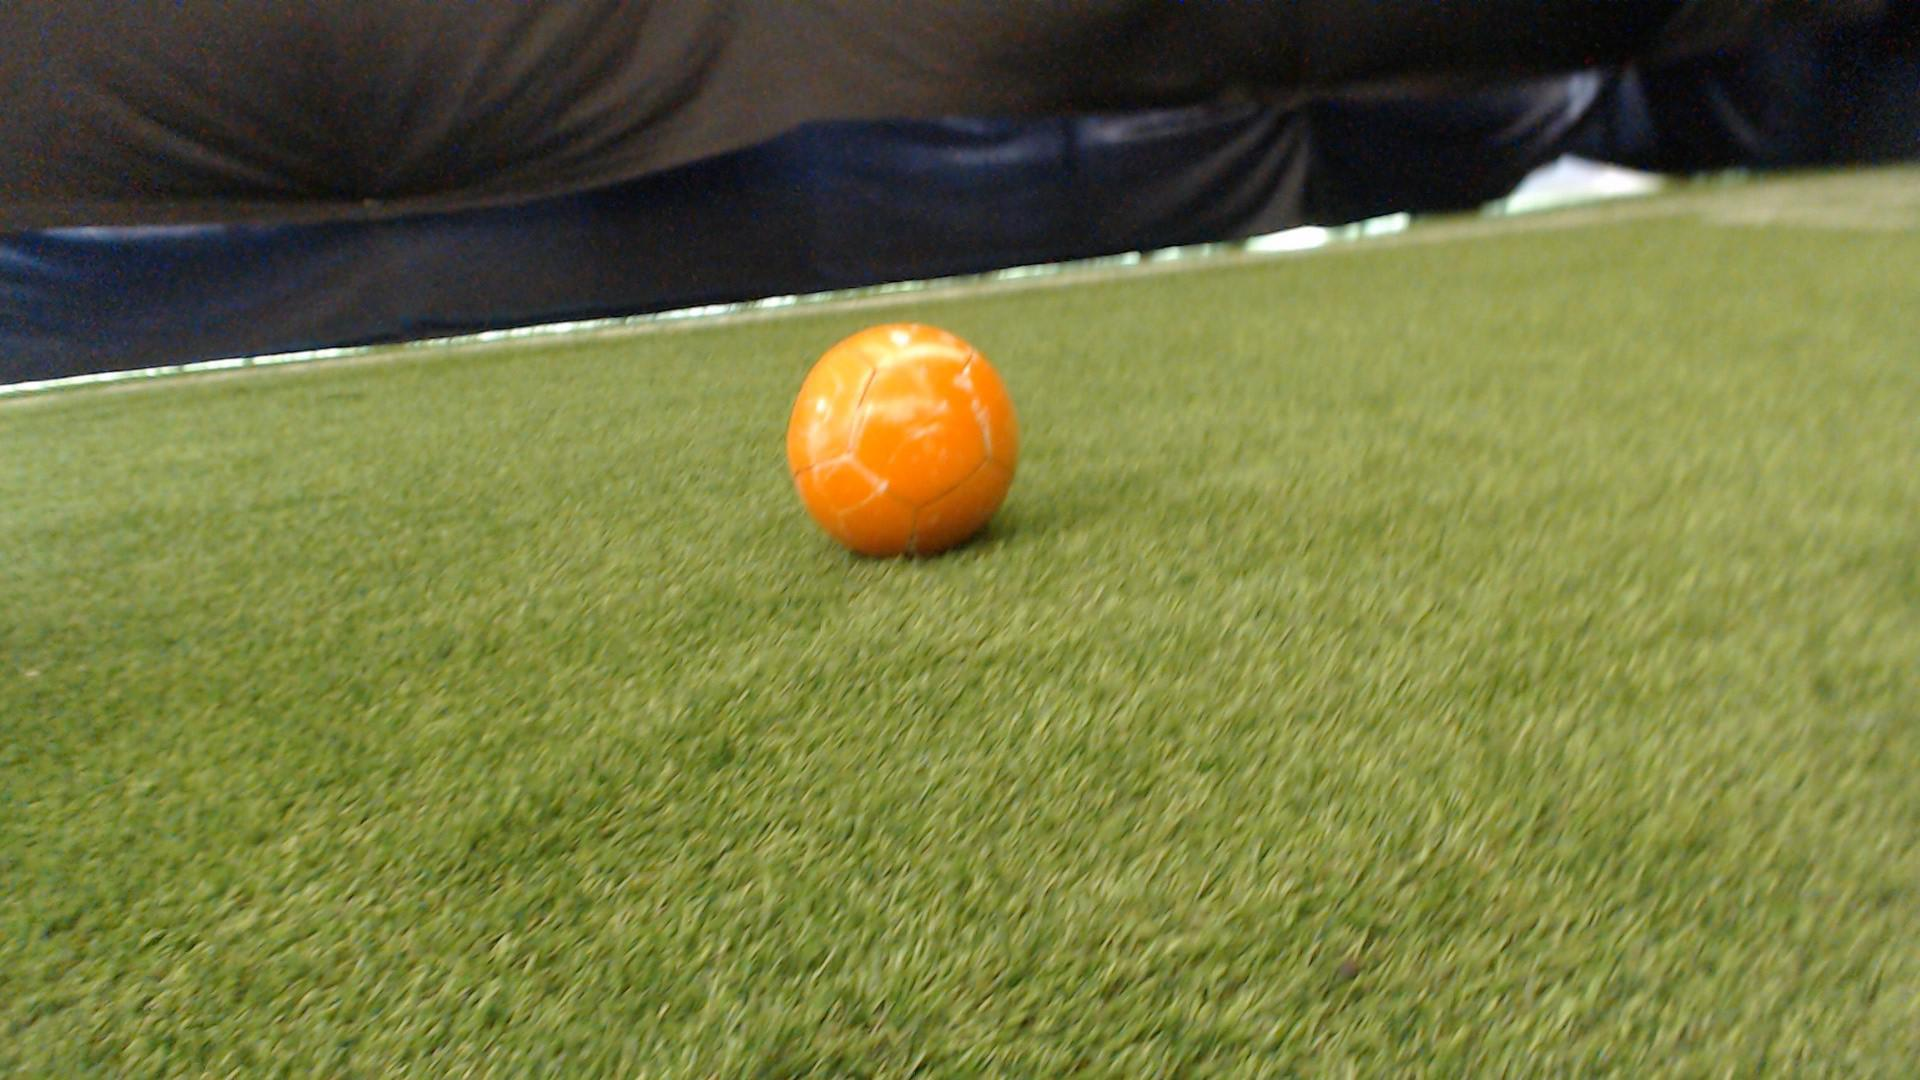bola: (774, 289, 1054, 595)
